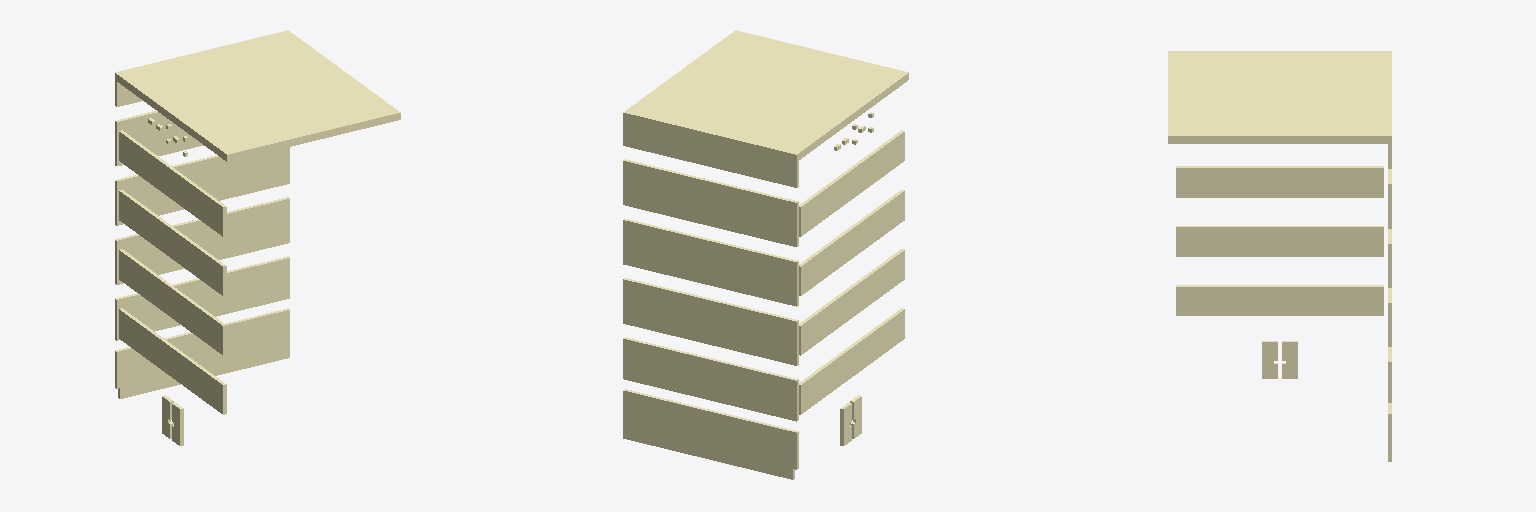
3 renders of one model, left to right at view 1: azimuth 30°, elevation 25°; view 2: azimuth 150°, elevation 25°; view 3: azimuth 270°, elevation 25°, orthographic.
Visible parts, largest first — view 1: ICGIntLights; view 2: ICGIntLights; view 3: ICGIntLights.
Part boxes in pixels (x1,y1,x2,y2): ICGIntLights: (115,30,400,445); ICGIntLights: (623,30,908,479); ICGIntLights: (1168,51,1391,461).
Bounding box in the file's own units: 5 × 8.8 × 5.5.
Materials: 1 (1 with a texture image).